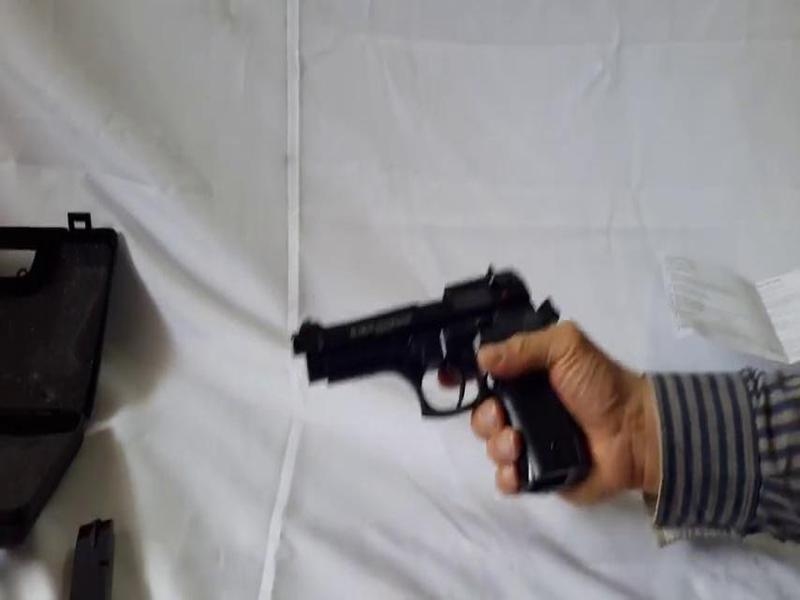Pistola: (277, 264, 603, 504)
